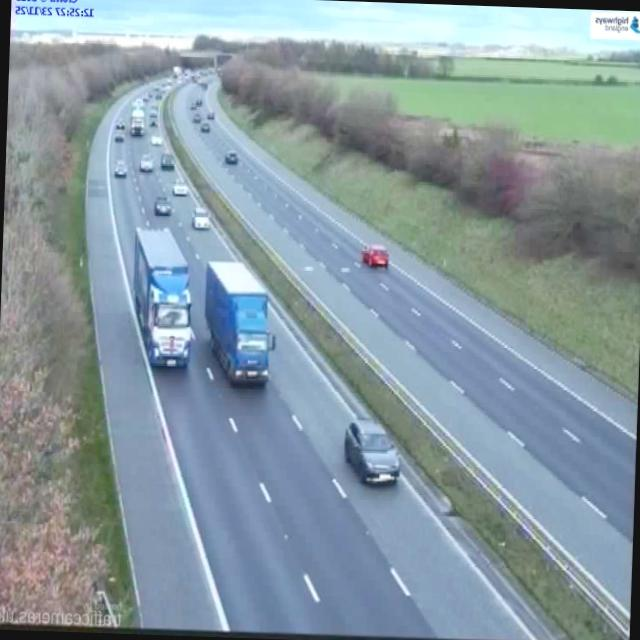foliage: (223, 59, 640, 277), (0, 123, 104, 622), (4, 45, 172, 221)
